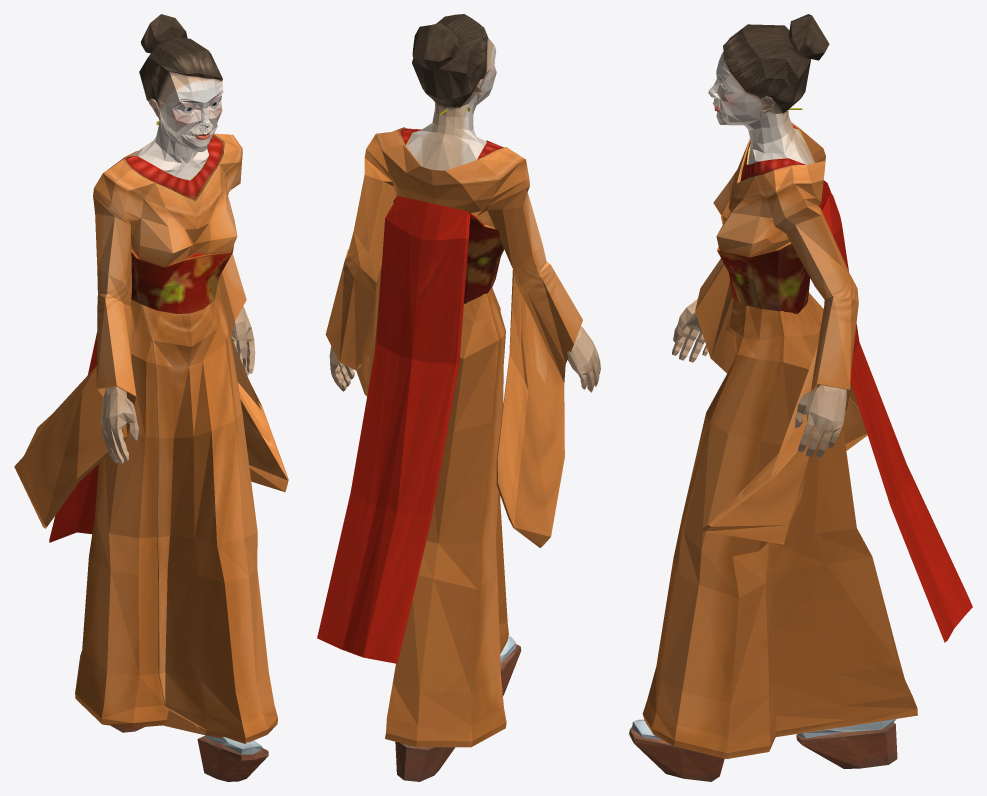
File: geisha2.obj
3 views of the same model, side by side, from view 1: azimuth 30°, elevation 25°; view 2: azimuth 150°, elevation 25°; view 3: azimuth 270°, elevation 25° (orthographic). The views are drawn at different scales.
Visible parts, largest first — view 1: Plane; view 2: Plane; view 3: Plane.
Part boxes in pixels (bbox=[...]): Plane: bbox=[14, 14, 288, 781]; Plane: bbox=[317, 14, 600, 781]; Plane: bbox=[629, 14, 972, 781].
Size of the model in its own units: 17.1 by 56.24 by 23.13.
